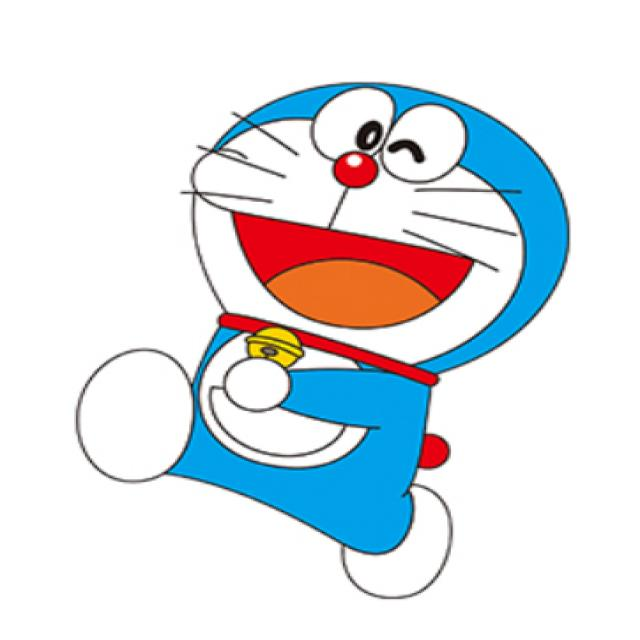Ameng: (158, 63, 572, 381)
